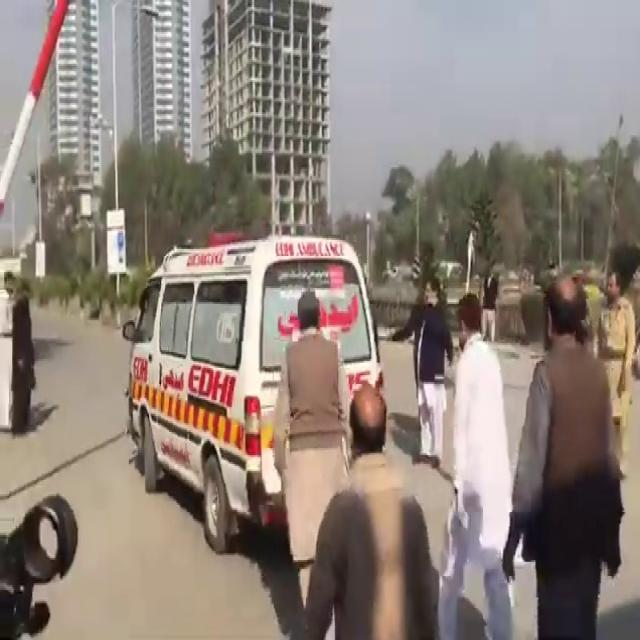ambulance: (120, 204, 402, 522)
